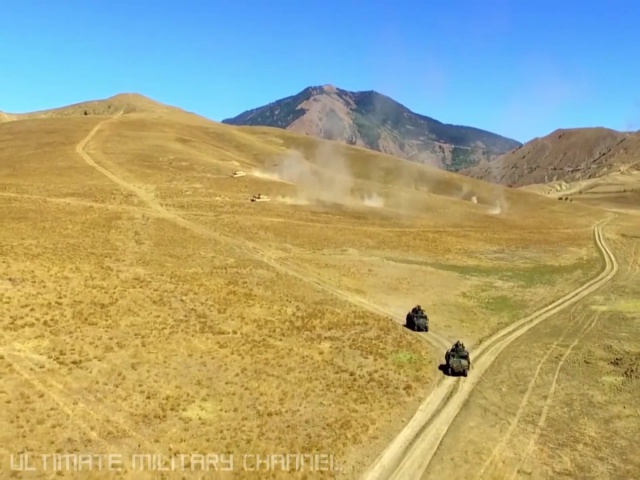vehicle: (444, 340, 472, 378), (404, 305, 430, 331)
